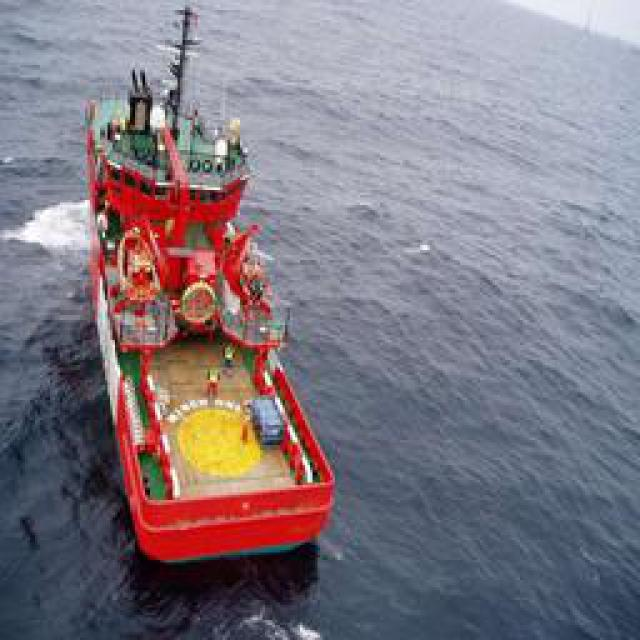Ship: (85, 14, 338, 589)
